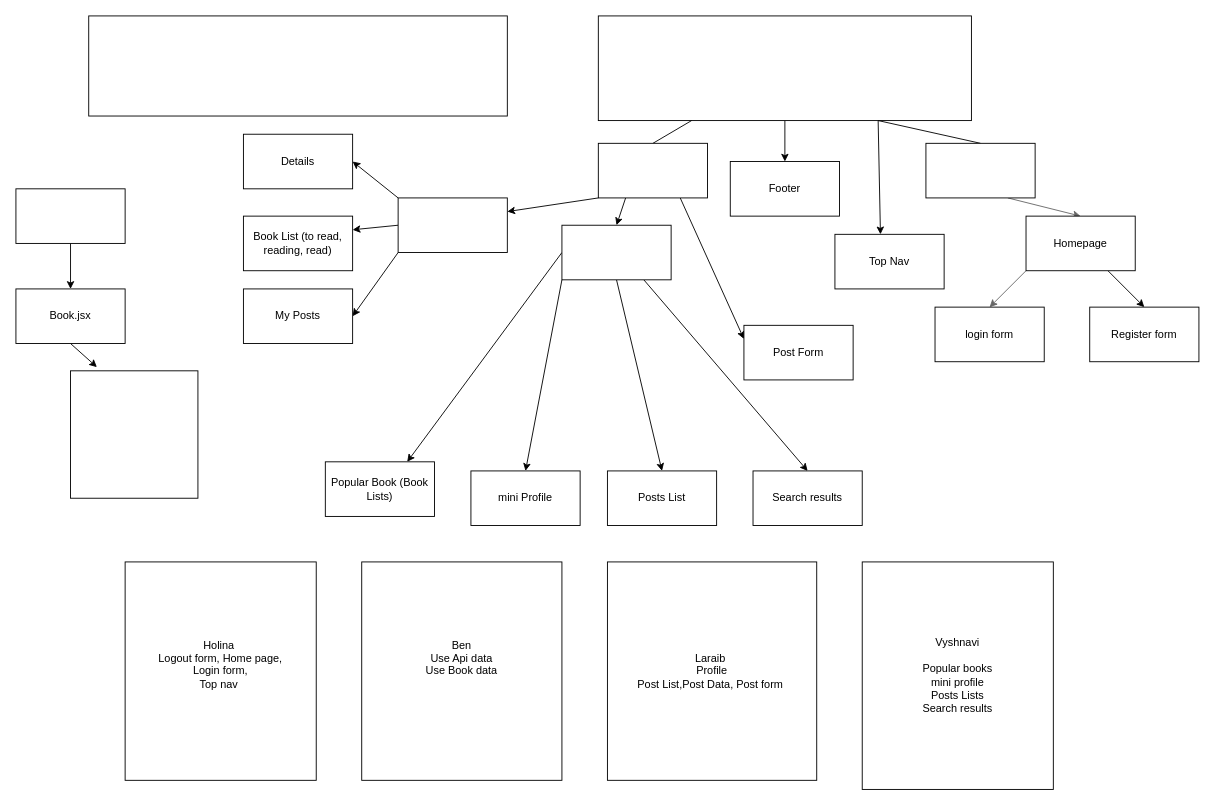
This 1215x805 diagram has some shape labels left out. Each missing label, with the centre of its shape:
"App.jsx" goes at (x=784, y=68).
"Book Lists" goes at (x=70, y=215).
"Dashboard" goes at (x=616, y=252).
"logged in" goes at (x=652, y=170).
"logout" goes at (x=980, y=170).
"Post form Book rating review" goes at (x=134, y=434).
"Profile" goes at (x=452, y=225).
"useApplication" goes at (x=297, y=65).
